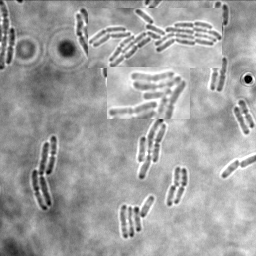Dividing: (175, 167, 189, 204), (238, 99, 255, 128), (217, 56, 228, 92), (7, 27, 17, 64), (209, 68, 222, 90)
Microcolony: (88, 8, 222, 68), (107, 67, 190, 119), (32, 135, 57, 211), (137, 119, 168, 180), (120, 195, 155, 238)
Rod: (233, 106, 251, 135), (222, 157, 240, 178), (167, 184, 177, 206), (174, 166, 183, 187)
